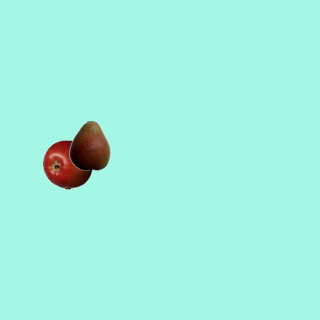Apple Braeburn: (42, 139, 92, 189)
Pear Forelle: (64, 120, 114, 170)
